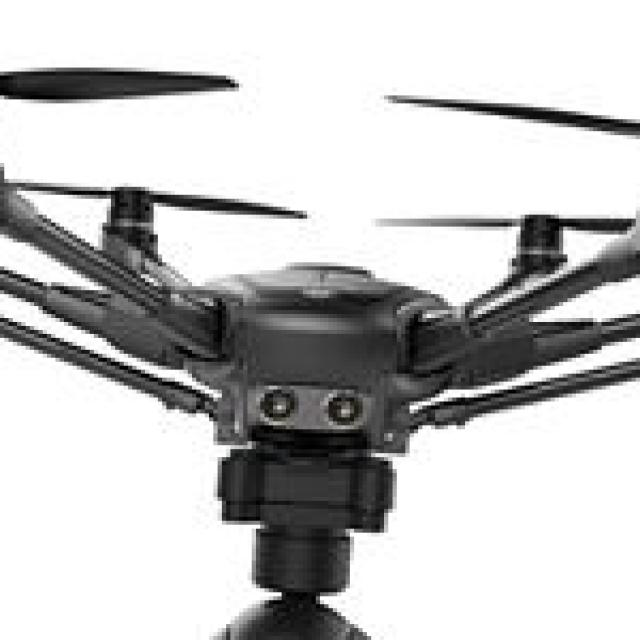drone: (0, 40, 640, 493)
